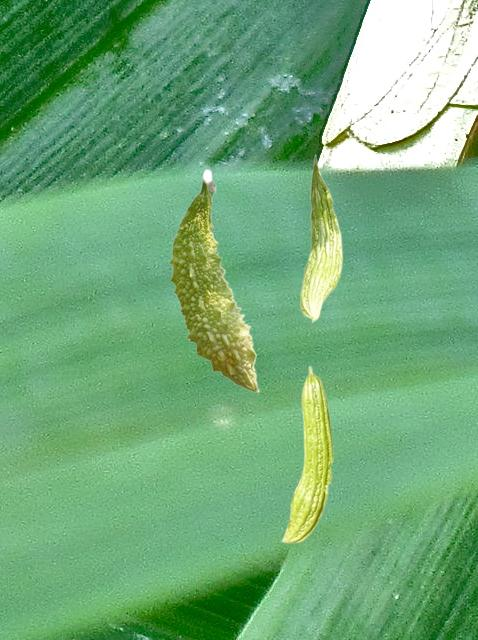ampalaya: (167, 168, 261, 394), (279, 365, 335, 545), (298, 153, 343, 323)
